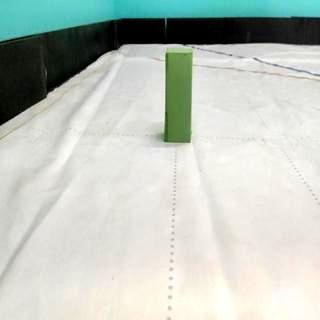greenbox: (165, 44, 192, 142)
